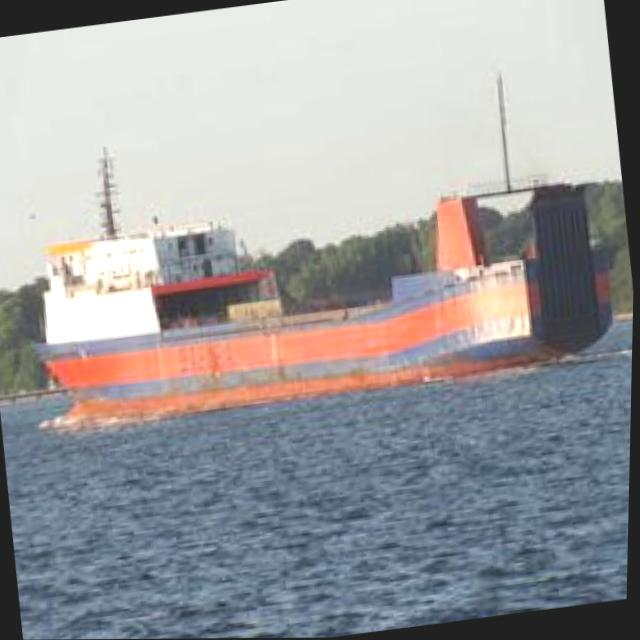ship2: (35, 73, 625, 437)
